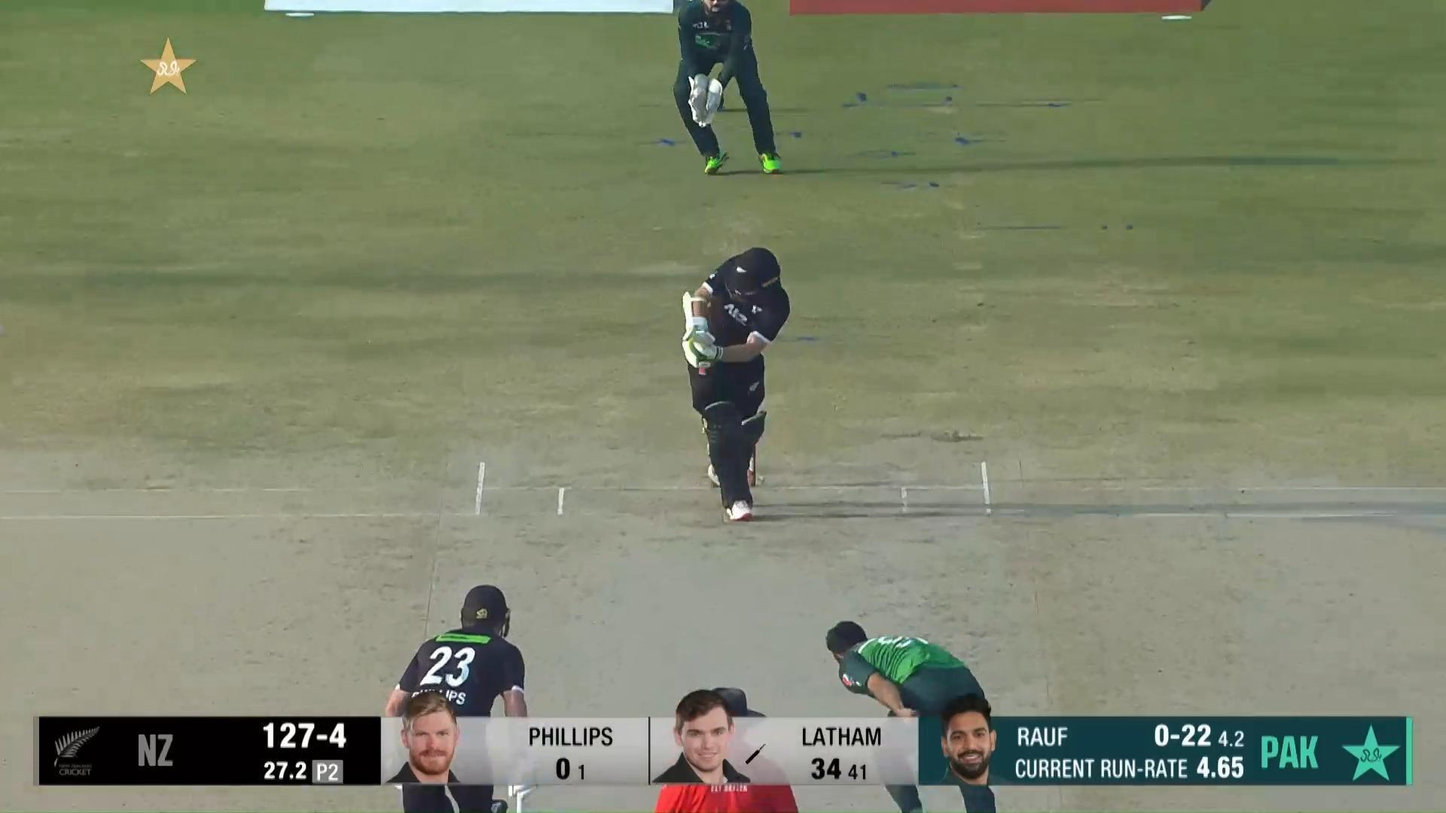BM 1: (679, 246, 792, 523)
BO: (825, 618, 997, 813)
